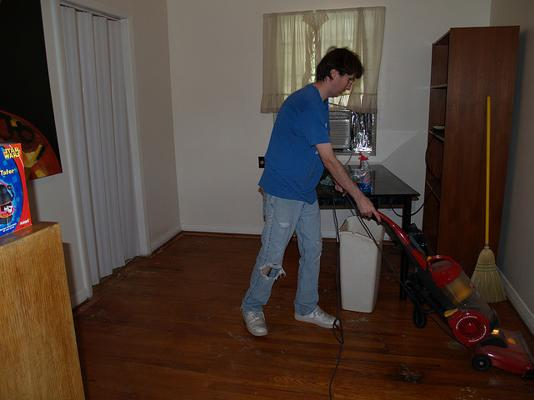person: (241, 48, 382, 336)
